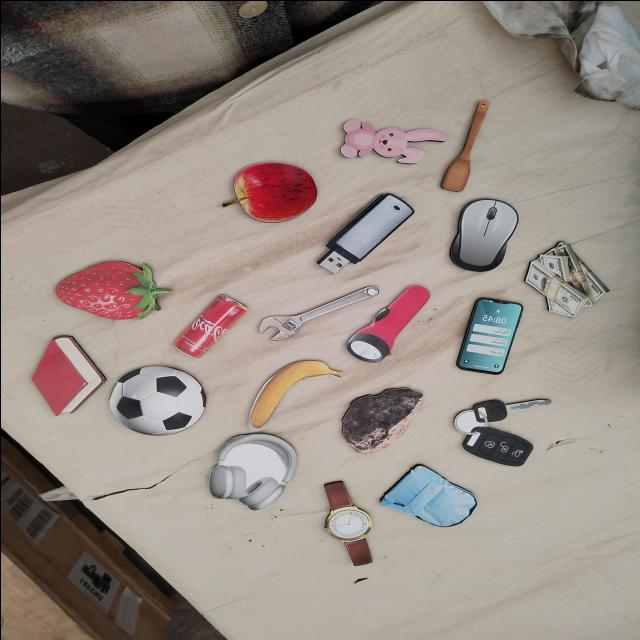Other Objects: (97, 355, 217, 444), (307, 188, 418, 278), (440, 381, 551, 469), (375, 460, 485, 540), (339, 274, 433, 367), (206, 432, 297, 511), (257, 284, 378, 341), (246, 359, 342, 429), (523, 240, 609, 318), (442, 194, 523, 275), (221, 161, 317, 222), (339, 386, 423, 454), (454, 296, 522, 375), (438, 97, 494, 192), (338, 118, 445, 164), (172, 293, 247, 358), (321, 480, 372, 566)
